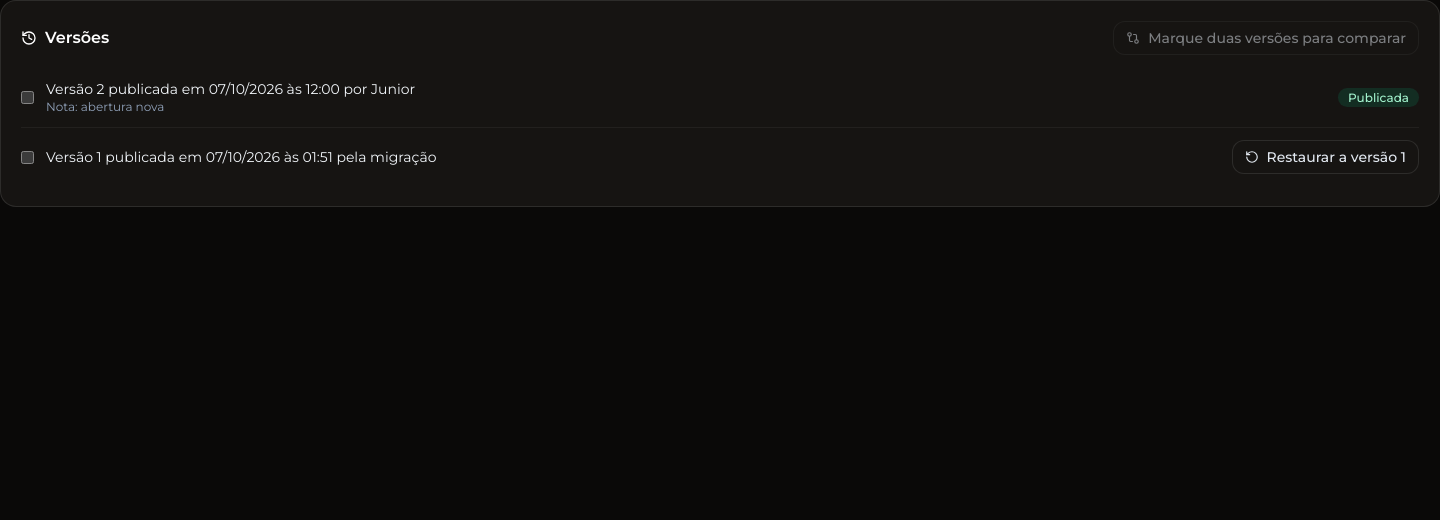
HistoricoDeVersoes › compara duas versões linha a linha e diz que ajustes e modelo são iguais
Expected: the text "Versão 2 publicada em 07/10/2026 às 12:00 por Junior" is shown, top-left (46, 80), bottom-right (415, 98)
Click the checkbox named "Comparar a versão 1". click: [28, 157]
box: top-left (21, 150), bottom-right (34, 164)
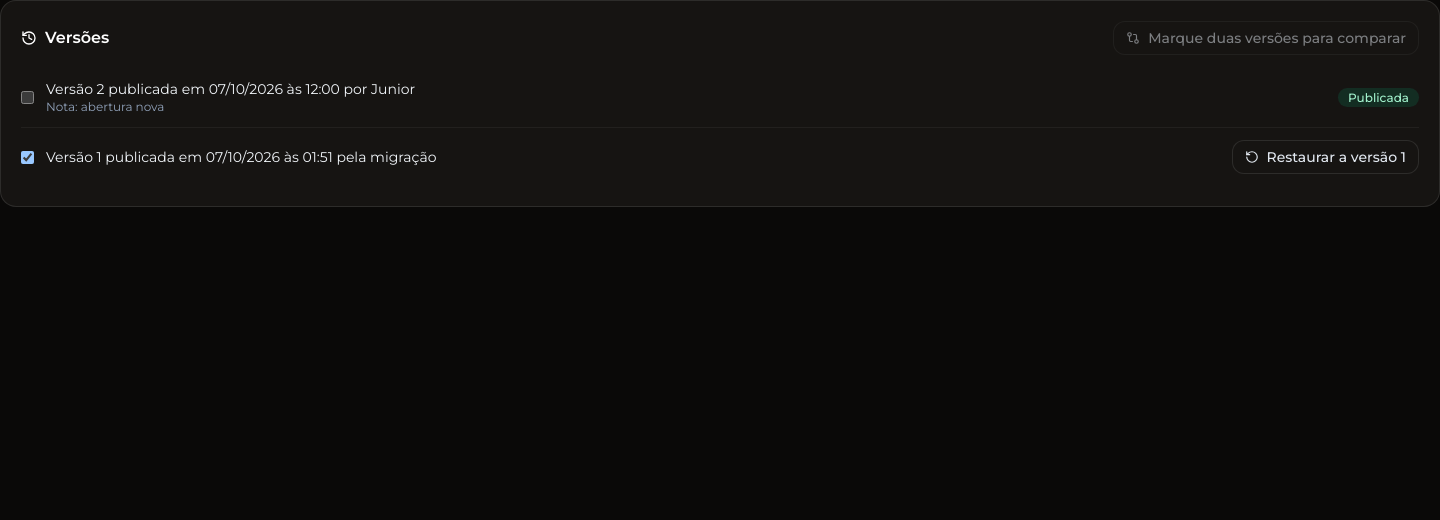
Click the checkbox named "Comparar a versão 2". click: [28, 97]
box: top-left (21, 90), bottom-right (34, 104)
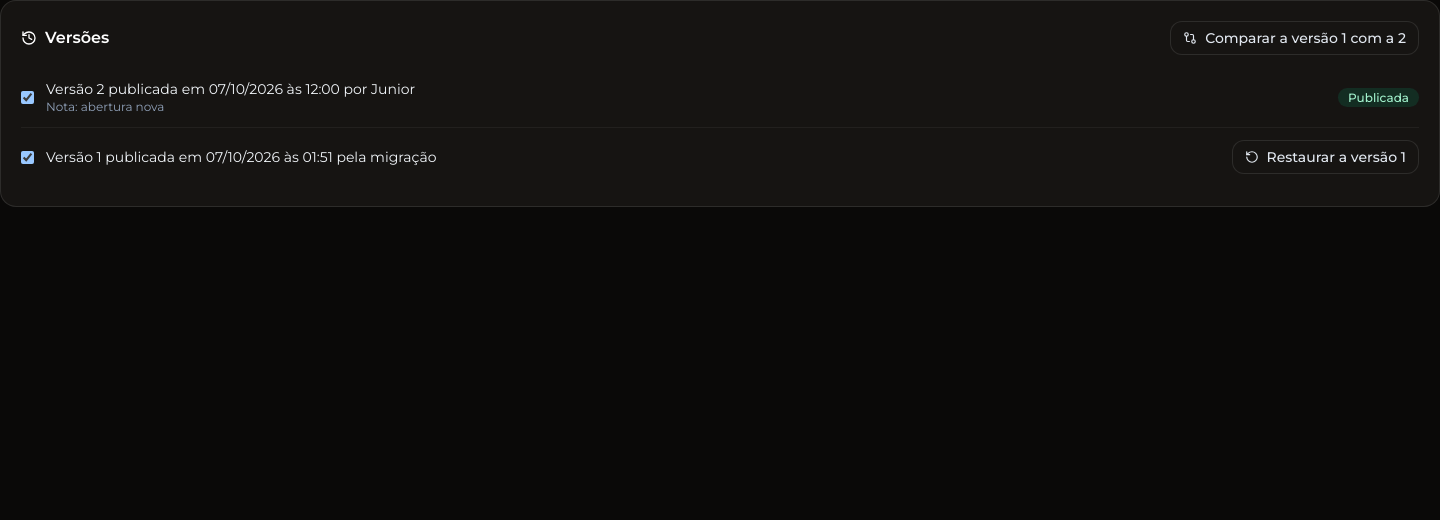
Click the button "Comparar a versão 1 com a 2". click: [1295, 38]
box: top-left (1170, 21), bottom-right (1419, 55)
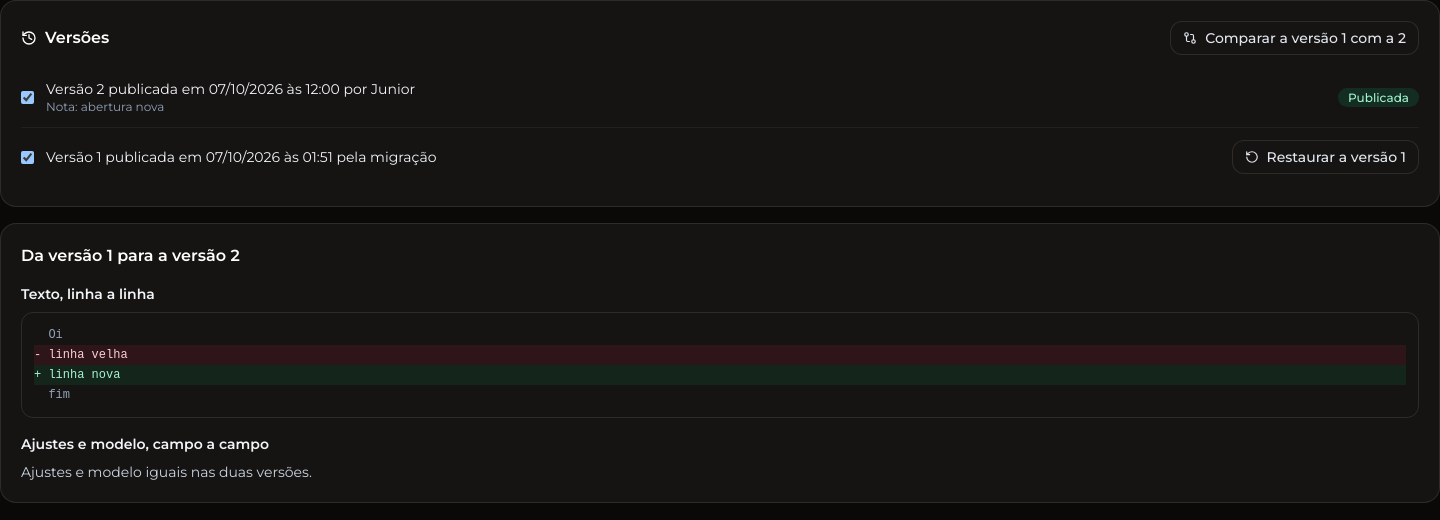
Expected: the text "Ajustes e modelo iguais nas duas versões." is shown, top-left (21, 463), bottom-right (312, 481)
